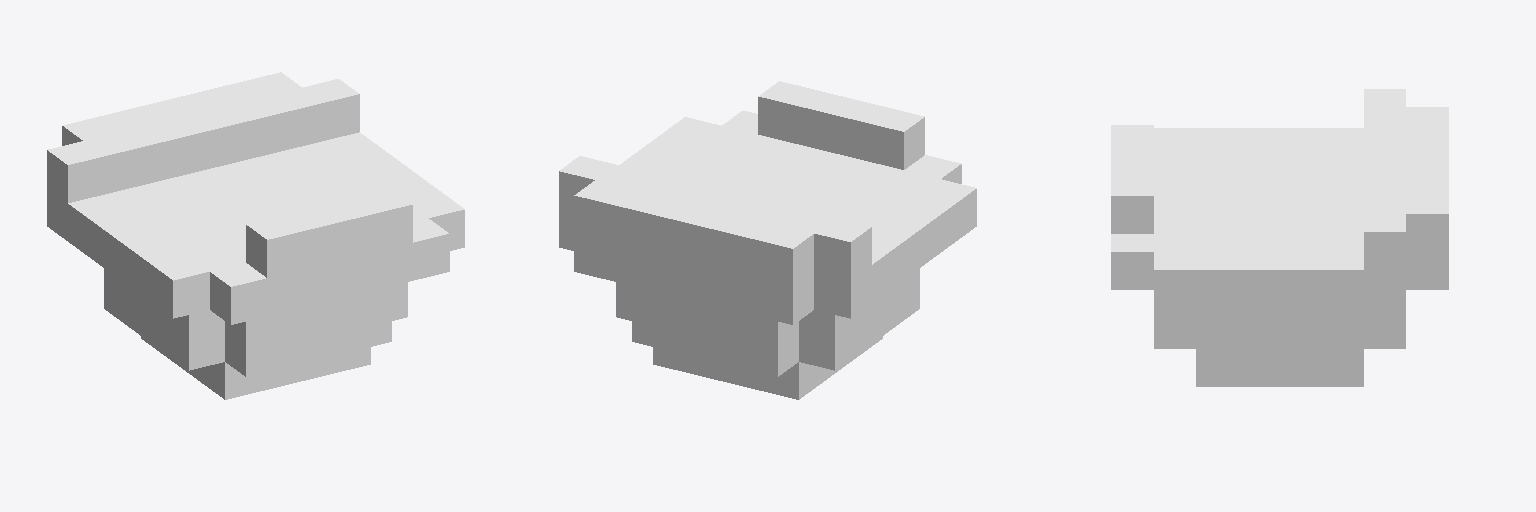
File: Arm-12.obj
3 renders of one model, left to right at view 1: azimuth 30°, elevation 25°; view 2: azimuth 150°, elevation 25°; view 3: azimuth 270°, elevation 25°, orthographic.
Parts seen in each view (by area): view 1: object 1; view 2: object 1; view 3: object 1.
Boxes of the visible parts, x1,y1,x2,y2 form: object 1: [47, 72, 464, 399]; object 1: [559, 81, 976, 399]; object 1: [1111, 89, 1448, 386].
Bounding box in the file's own units: 0.8 × 0.5 × 0.8.